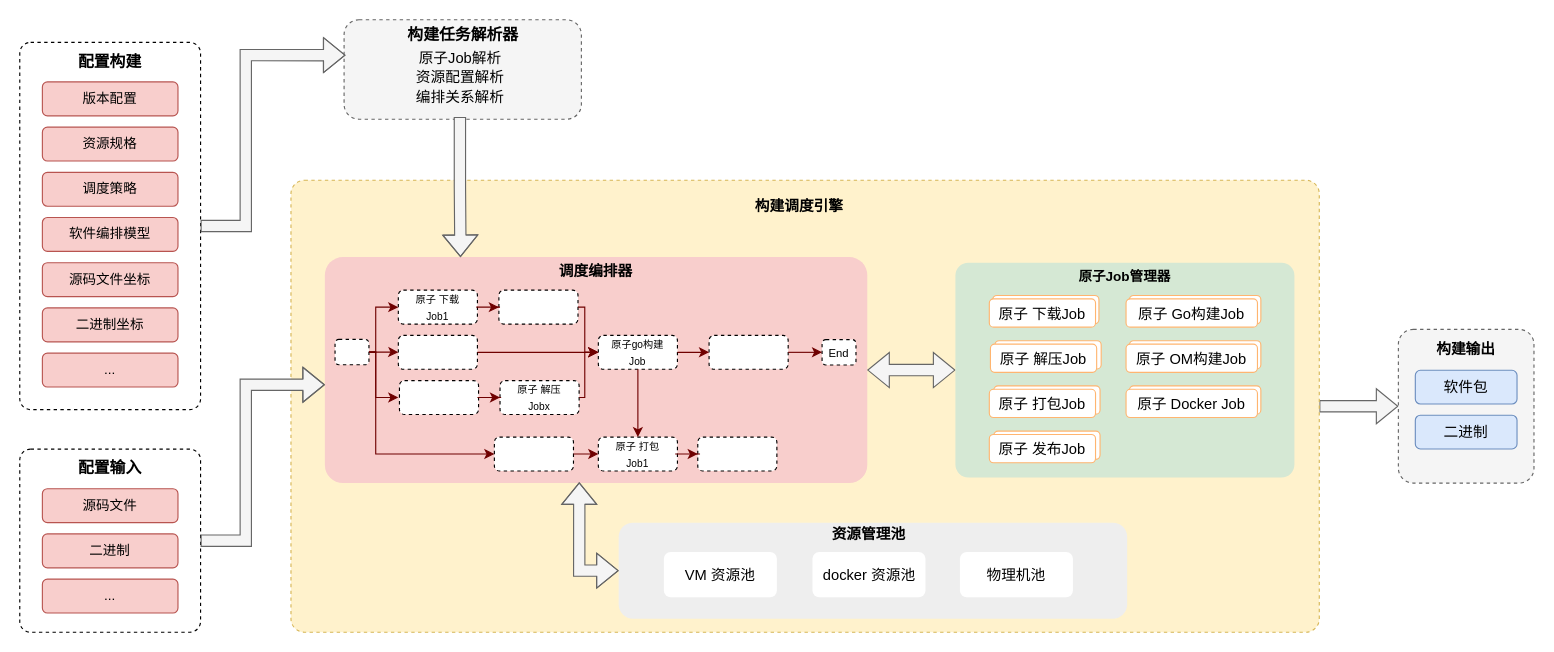
Some shapes in this 1554 by 652 pixel diagram are drawn without their labels. The shapes that lost their labels are listed below. From the top down, each one's centre as x and y in pixels, then its label:
At point (538, 306): "原子 解压 Job2".
At point (351, 351): "Start".
At point (437, 351): "原子 下载 Job2".
At point (748, 351): "原子 发布 Job1".
At point (438, 396): "原子 下载 Jobx".
At point (533, 453): "原子 OM构建 Job".
At point (737, 453): "原子 发布 Job2".
